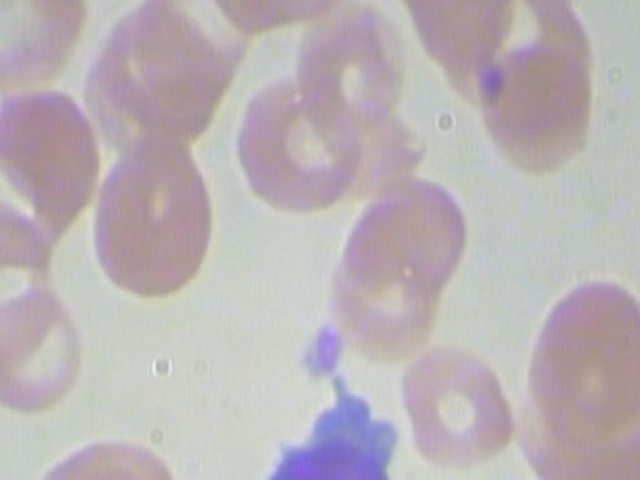Platelets: (293, 317, 350, 386)
RBC: (85, 131, 226, 302), (228, 70, 360, 216), (476, 40, 600, 179), (399, 337, 518, 471), (0, 283, 84, 421), (0, 0, 90, 98), (197, 0, 364, 36), (0, 466, 30, 480)
WBC: (234, 373, 412, 480)
